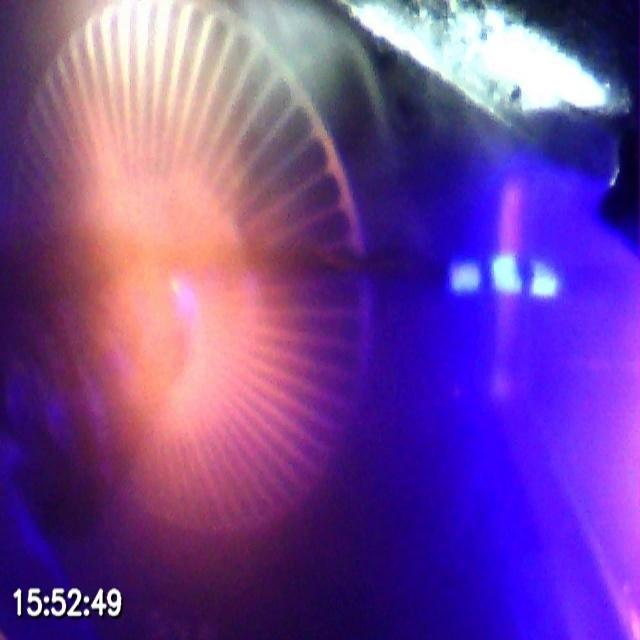white-dots: (450, 251, 562, 302)
